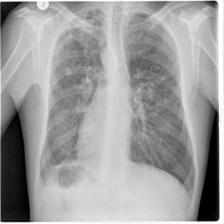tuberculosis: (34, 5, 198, 201)
